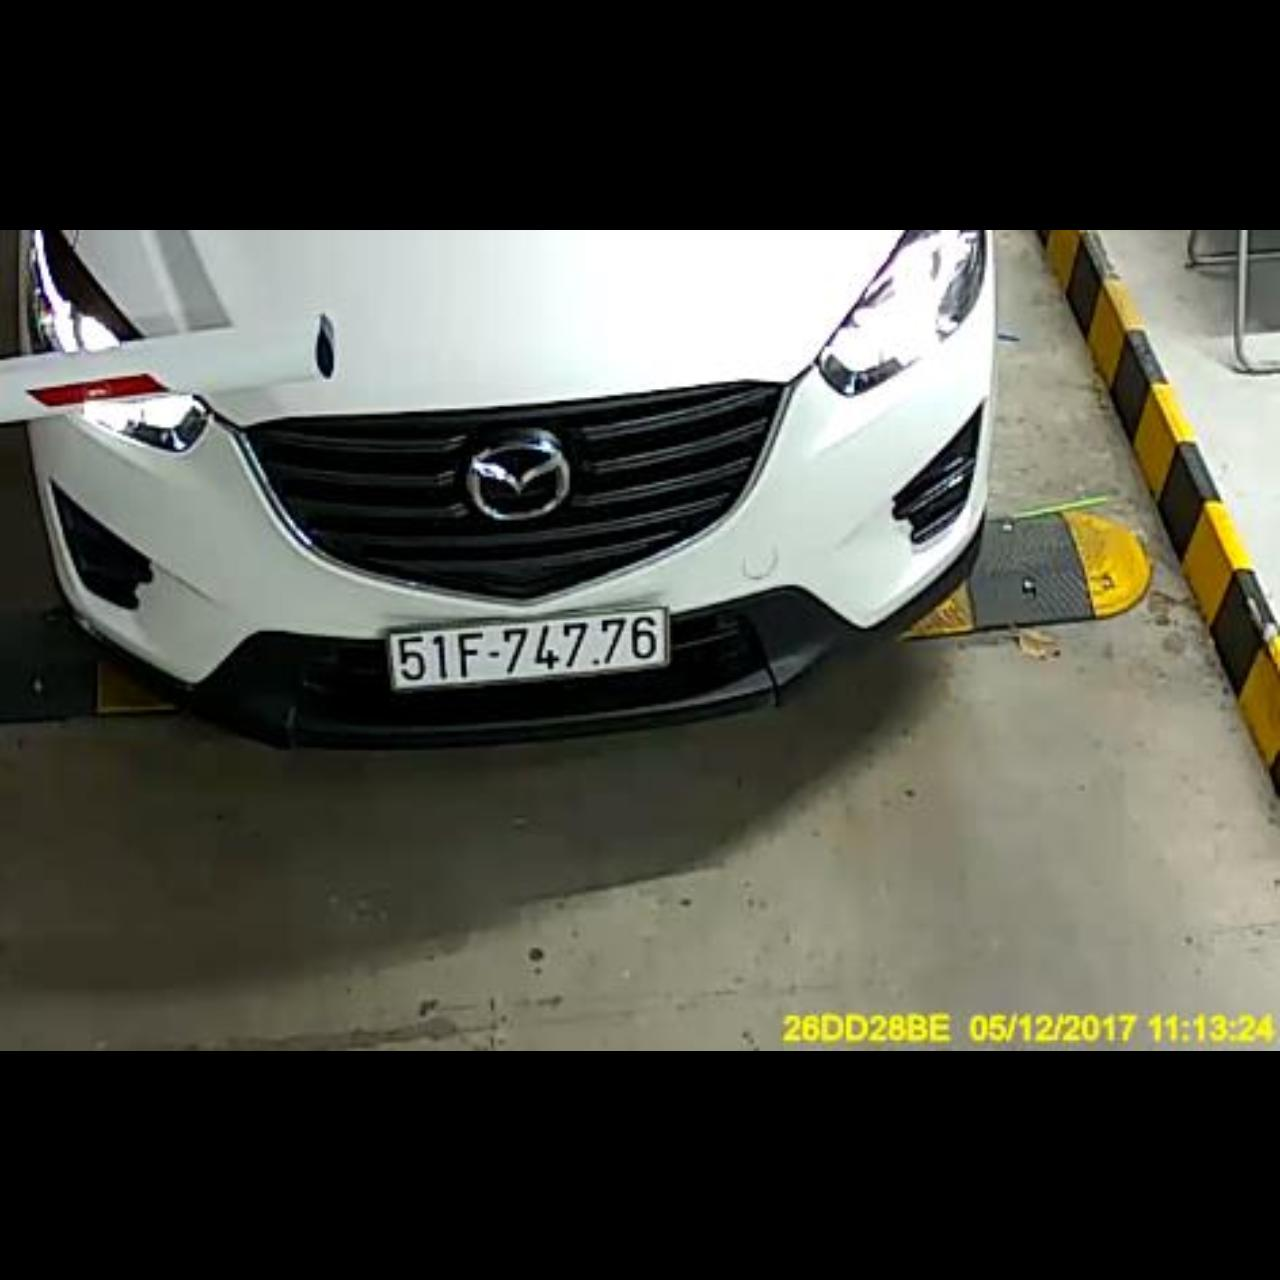bienso: (383, 599, 673, 695)
